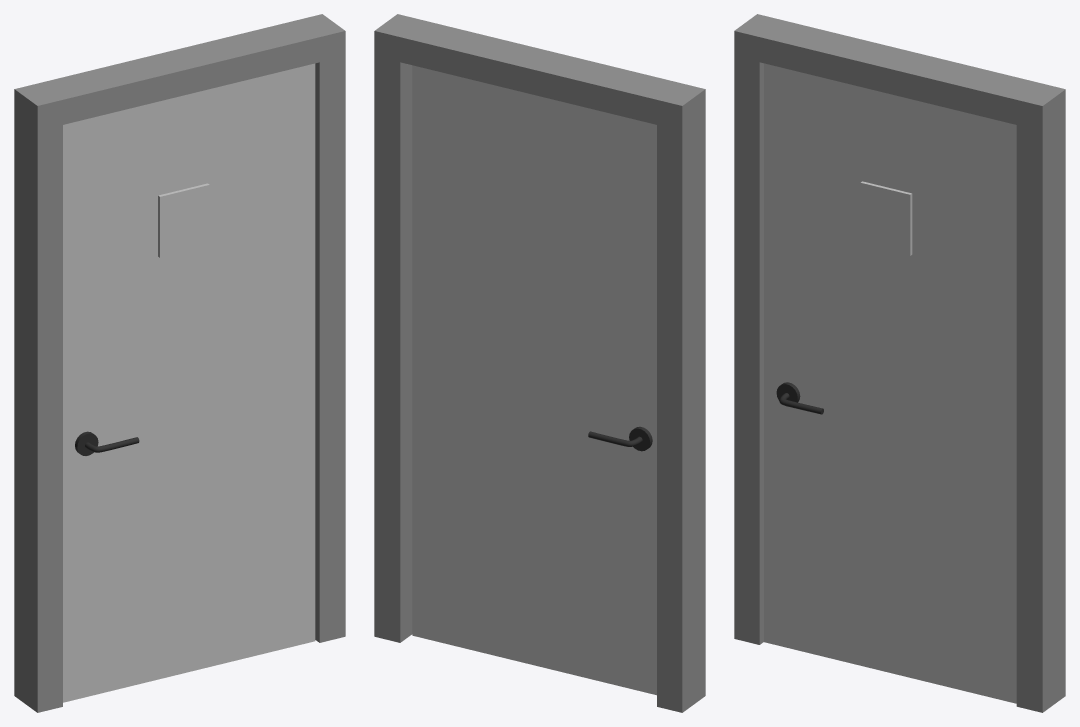
The model's file is Door 1.FBX.
3 renders of one model, left to right at view 1: azimuth 30°, elevation 25°; view 2: azimuth 150°, elevation 25°; view 3: azimuth 330°, elevation 25°, orthographic.
Parts seen in each view (by area): view 1: Door, door frame; view 2: Door, door frame; view 3: Door, door frame.
Boxes of the visible parts, box(x1,y1,x2,y2) form: Door: box(63, 63, 315, 702); door frame: box(14, 14, 345, 712); Door: box(412, 65, 656, 695); door frame: box(374, 14, 705, 712); Door: box(764, 63, 1016, 703); door frame: box(734, 14, 1065, 712).
Size of the model in its own units: 117 by 221 by 20.4.
